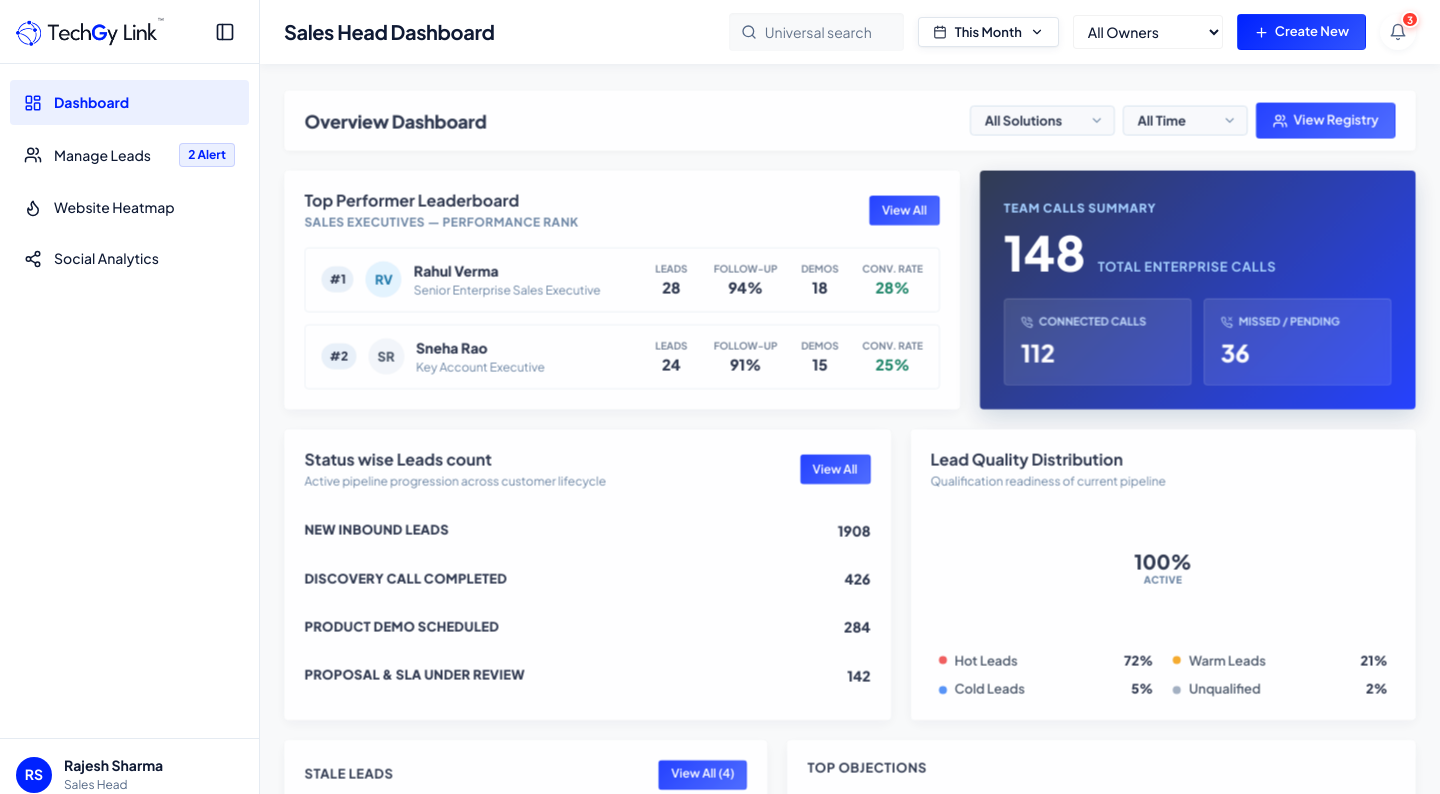
lead assignment › lets a sales head assign but not bulk-import
Click the button "Manage Leads 2 Alert".
click(130, 155)  # box [24, 143, 235, 167]
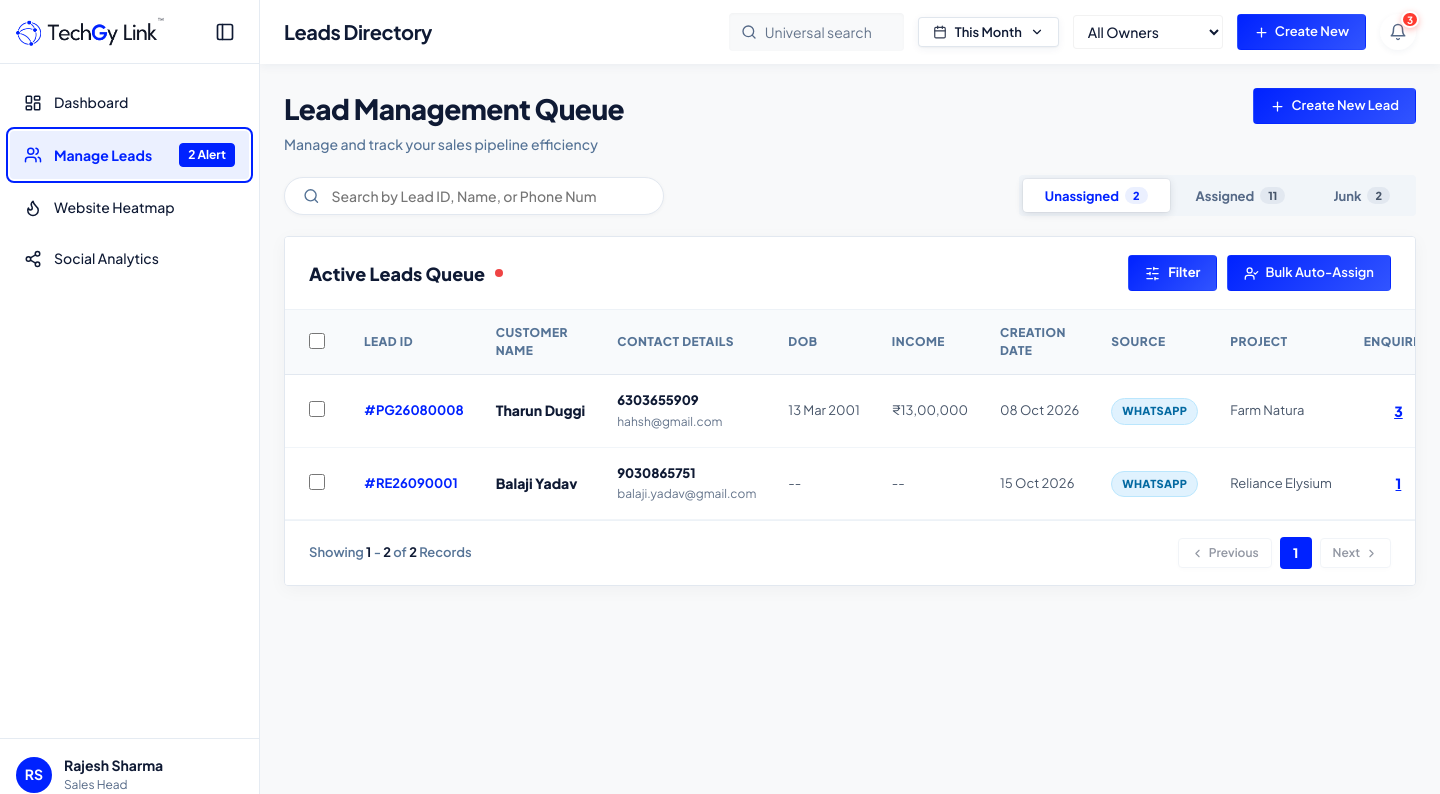
expect the button "Create New Lead" is shown: met, box [1253, 88, 1416, 124]
